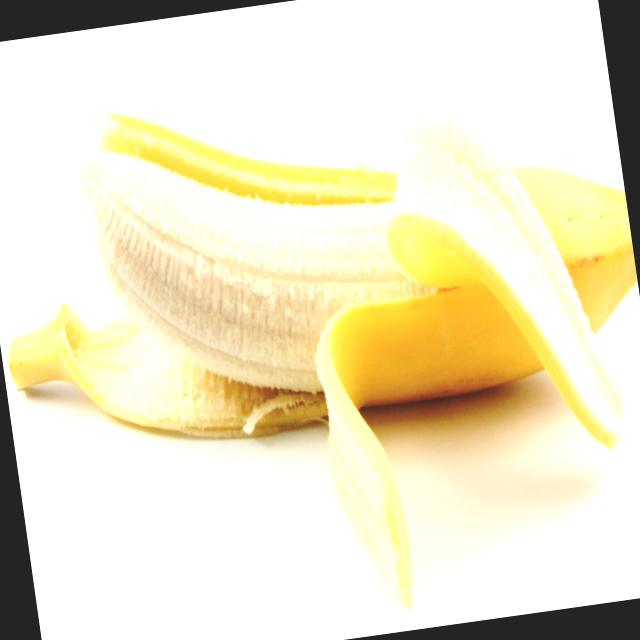banana: (75, 86, 635, 468)
